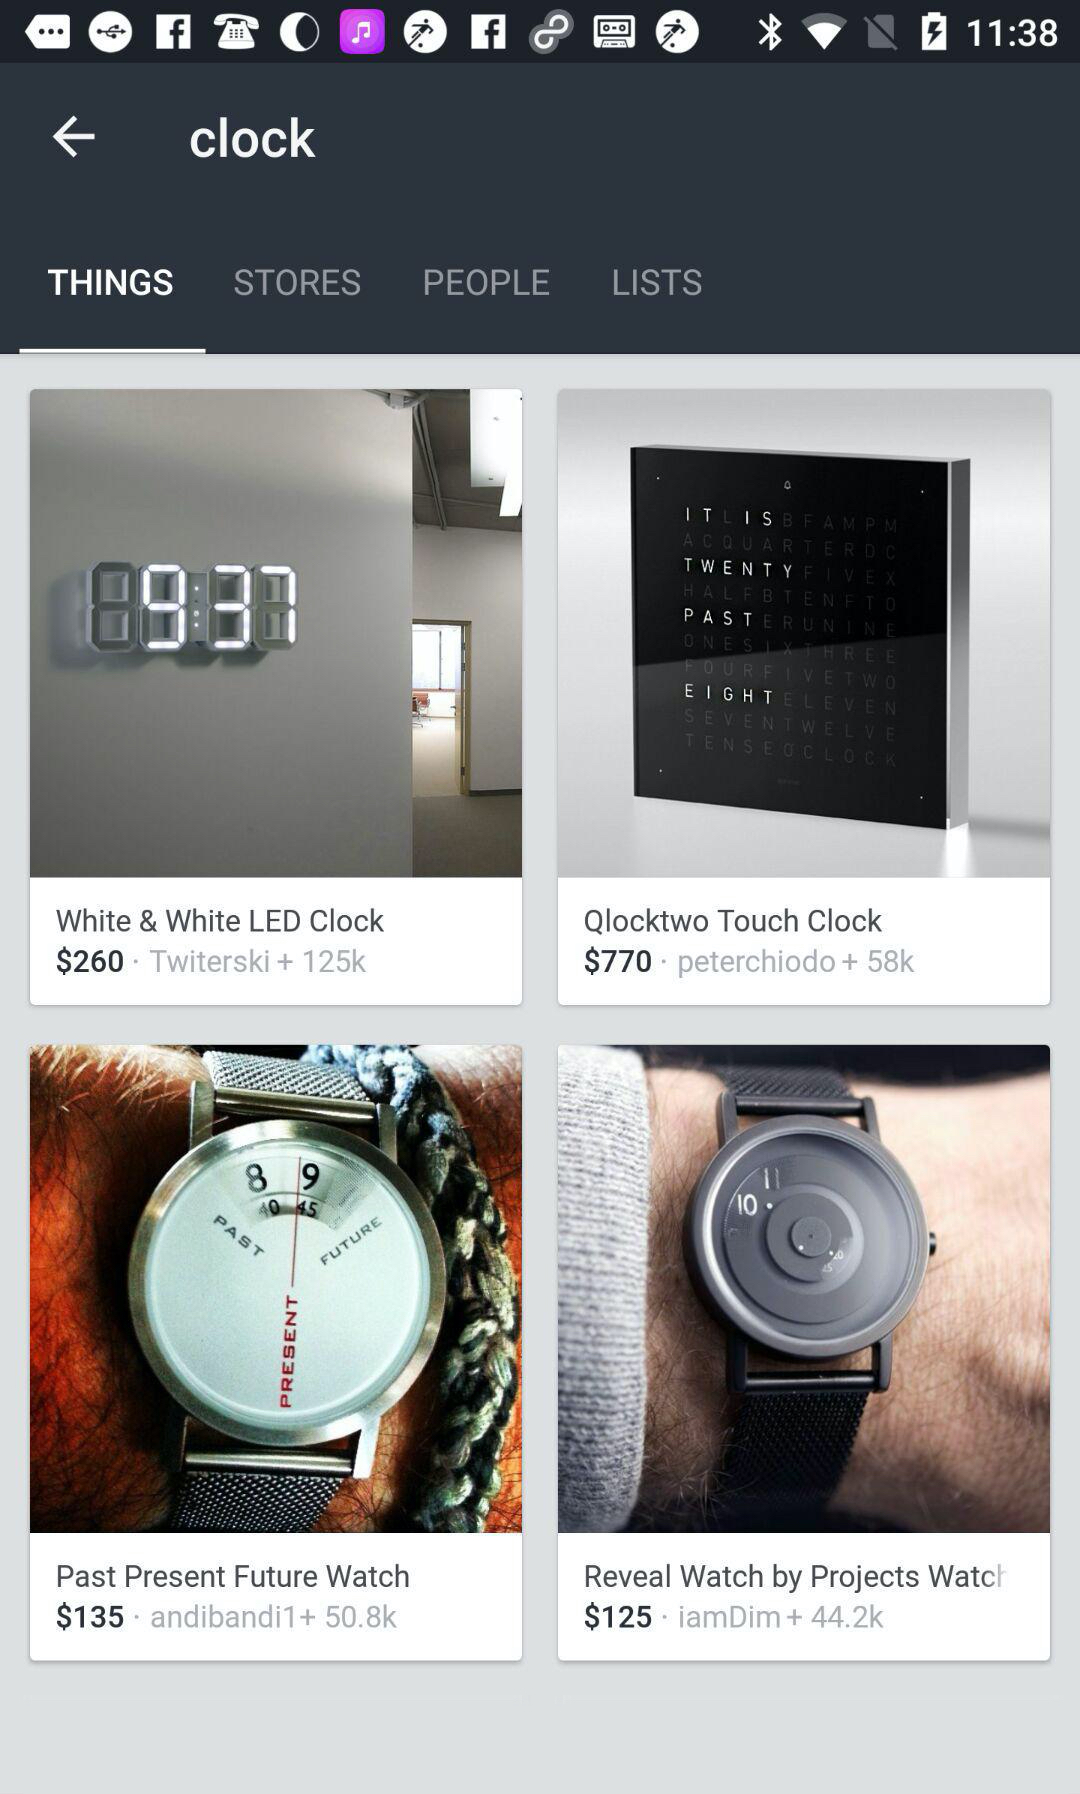Card: (29, 1043, 527, 1663), (557, 387, 1053, 1008), (29, 388, 525, 1008), (559, 1044, 1051, 1662)
Icon: (53, 114, 97, 160)
Image: (29, 1044, 523, 1533), (559, 390, 1052, 878), (31, 390, 524, 878), (559, 1044, 1051, 1533)
Text: (585, 1563, 1007, 1594), (585, 946, 915, 979), (56, 1601, 398, 1633), (584, 1601, 885, 1633), (56, 946, 366, 976), (58, 1563, 410, 1588), (56, 907, 386, 933), (584, 909, 883, 935), (190, 117, 316, 160), (234, 268, 361, 297), (47, 268, 174, 297), (424, 268, 550, 297), (612, 268, 702, 297)
UpperTaskBar: (1, 1, 1080, 64)
